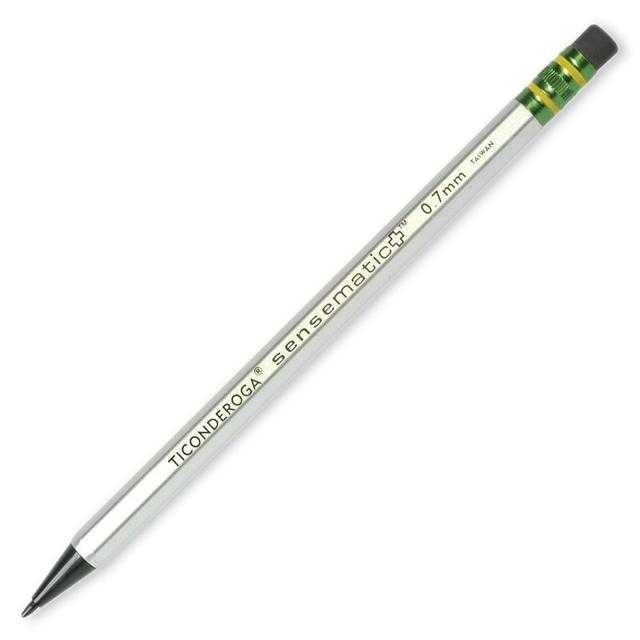pencil: (9, 11, 631, 630)
